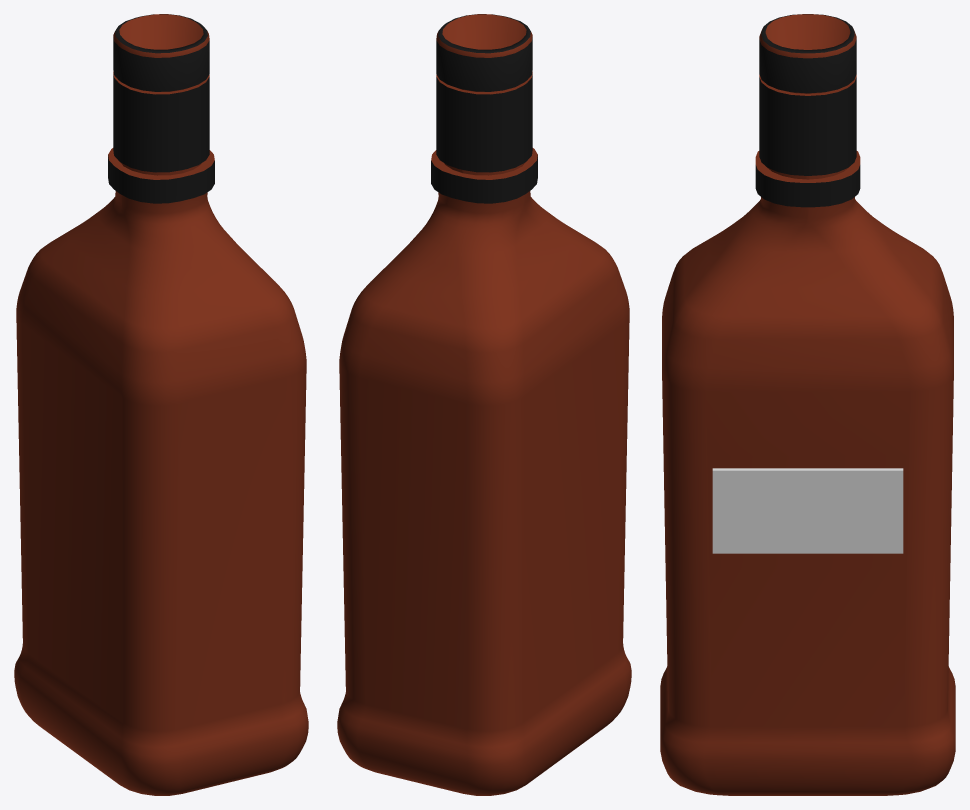
The model's file is Botella_Rin.fbx.
3 renders of one model, left to right at view 1: azimuth 30°, elevation 25°; view 2: azimuth 150°, elevation 25°; view 3: azimuth 270°, elevation 25°, orthographic. The views are drawn at different scales.
Parts seen in each view (by area): view 1: BotellaRon.001; view 2: BotellaRon.001; view 3: BotellaRon.001, Cube.
Boxes of the visible parts, <box> form: BotellaRon.001: <box>14,14,308,795</box>; BotellaRon.001: <box>337,14,631,795</box>; BotellaRon.001: <box>660,14,955,795</box>; Cube: <box>712,468,903,553</box>.
Bounding box in the file's own units: 25.99 × 95.42 × 35.24.
